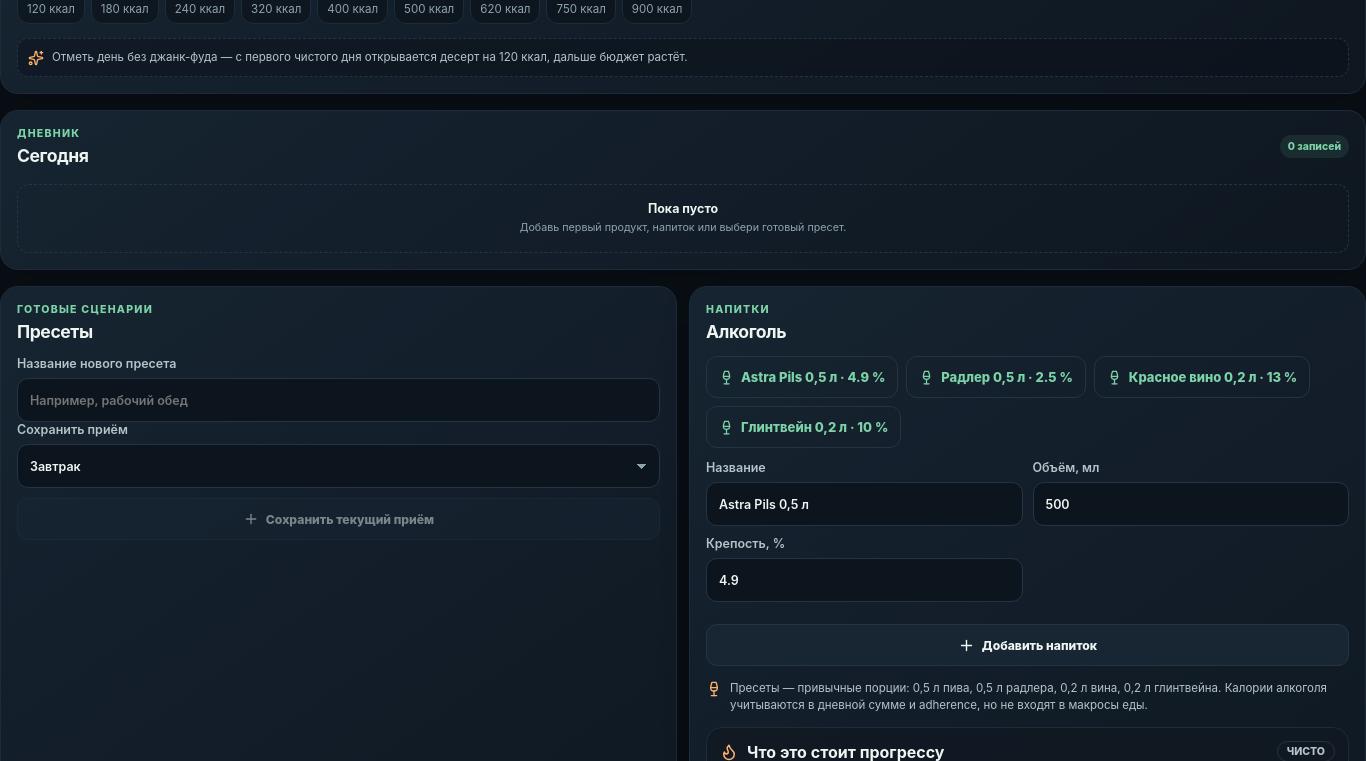
вкусняшки и алкоголь › записывает напиток одним тапом по пресету
The width and height of the screenshot is (1366, 761).
(page scrolled)
Click the button "Радлер 0,5 л · 2.5 %" at coordinates (996, 377), box [906, 356, 1086, 398]
(page scrolled)
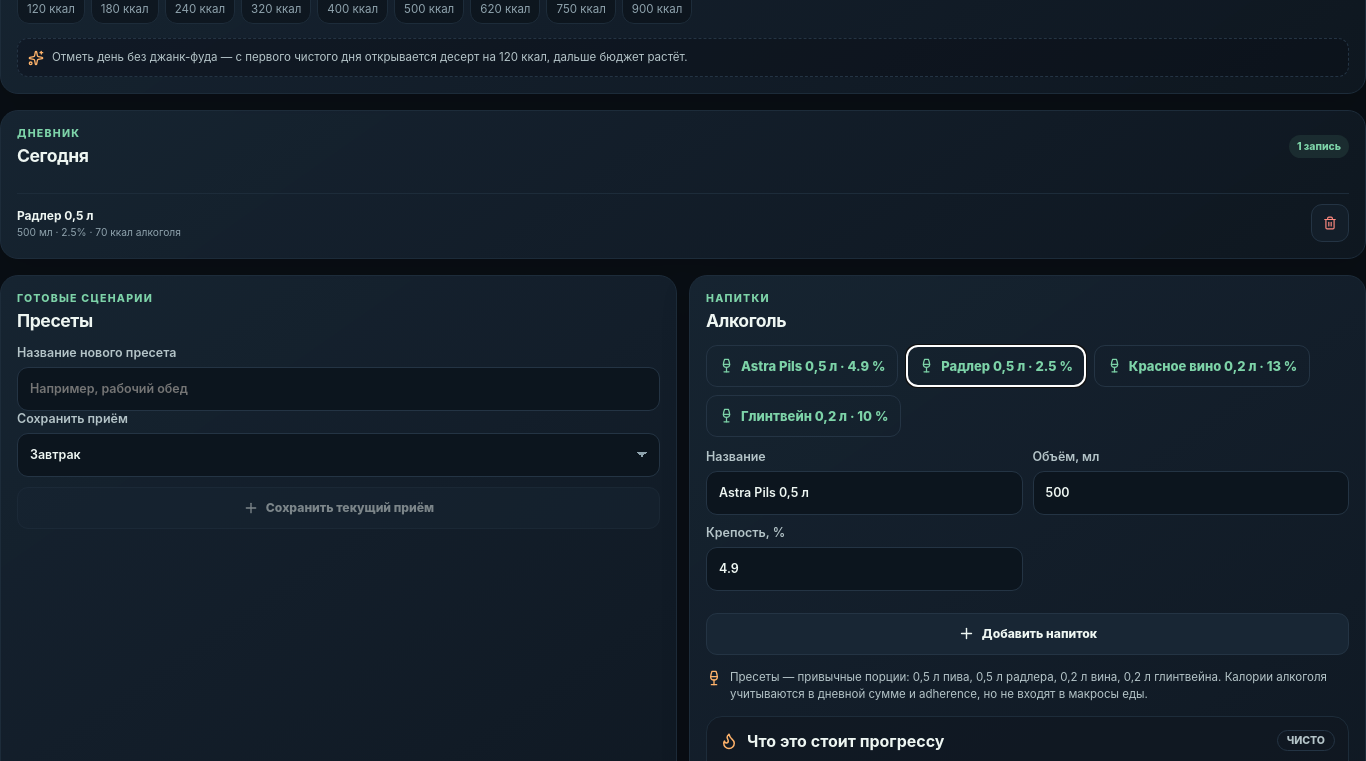
Now the button named "Удалить Радлер 0,5 л" is shown, box [1311, 204, 1349, 242]
